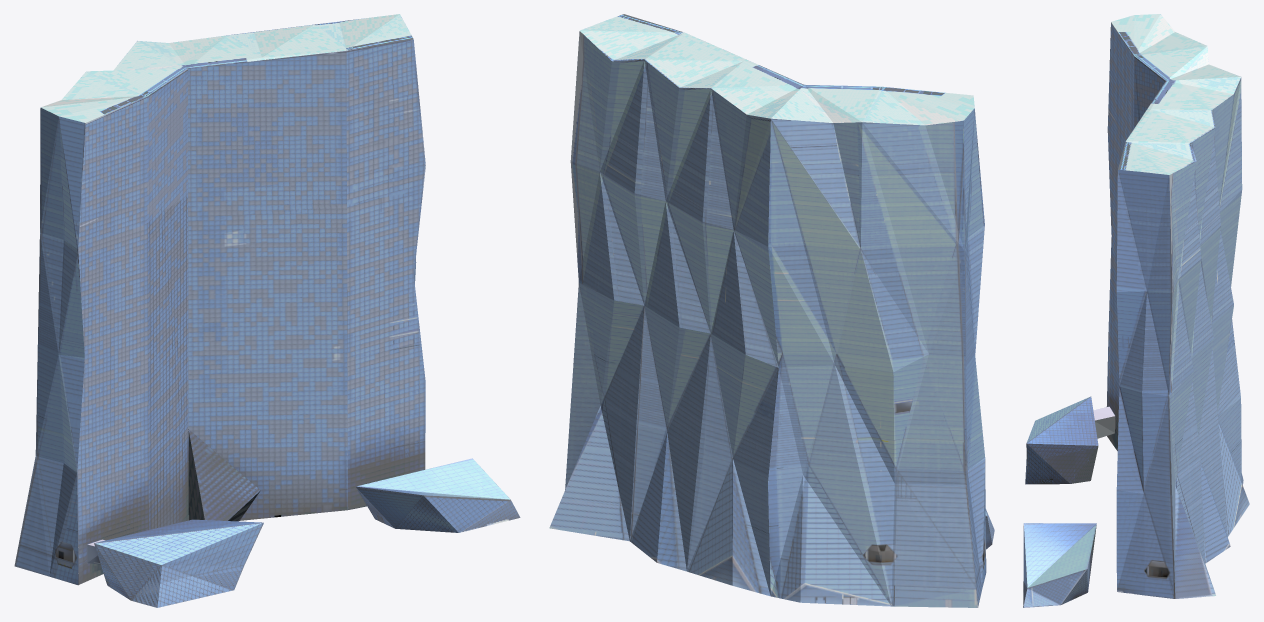
File: 109_baked_neww.glb
3 renders of one model, left to right at view 1: azimuth 30°, elevation 25°; view 2: azimuth 150°, elevation 25°; view 3: azimuth 270°, elevation 25°, orthographic. The views are drawn at different scales.
Parts seen in each view (by area): view 1: 109.001; view 2: 109.001; view 3: 109.001.
Boxes of the visible parts, <box> form: 109.001: <box>14,14,520,607</box>; 109.001: <box>549,14,994,607</box>; 109.001: <box>1023,14,1249,607</box>.
Size of the model in its own units: 134 by 140 by 67.89.
1 material, 1 textured.
